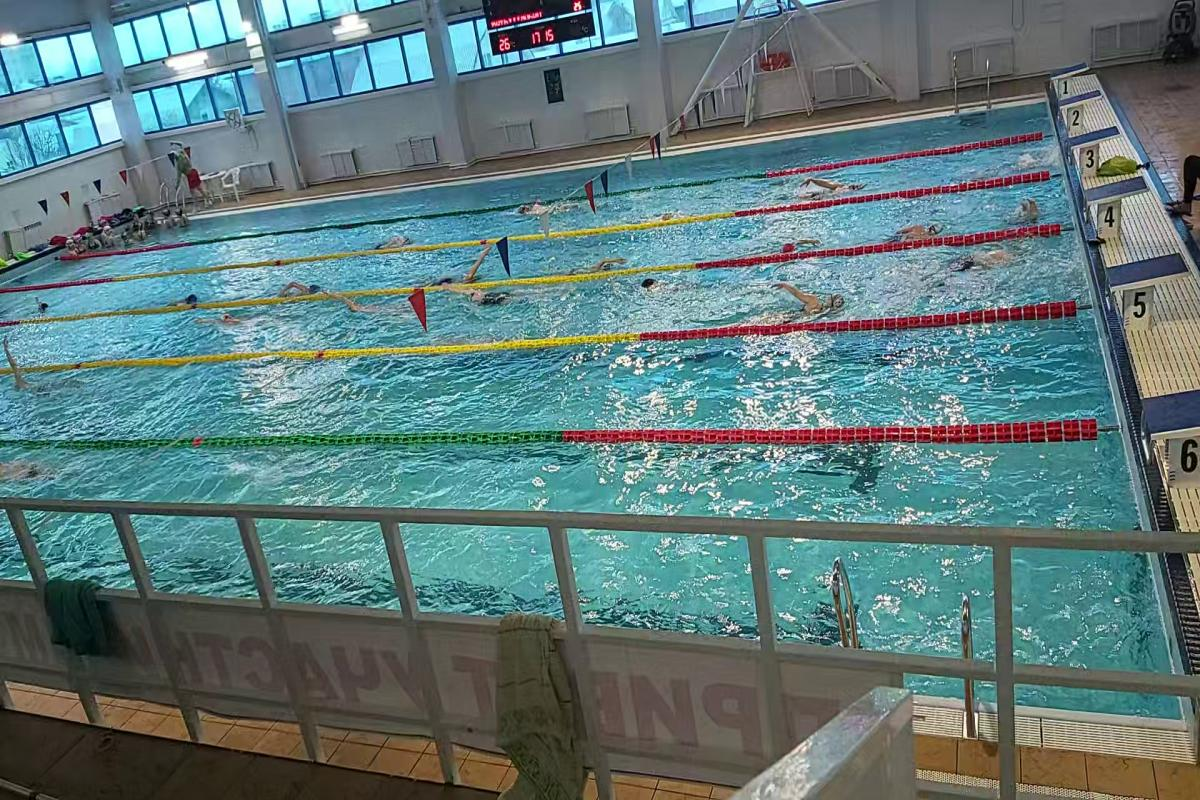swimmer: (760, 276, 850, 320), (942, 241, 1032, 272), (794, 172, 874, 204), (634, 270, 714, 297), (887, 214, 948, 239), (5, 452, 55, 482), (771, 230, 828, 254), (336, 292, 402, 312), (279, 272, 324, 296), (207, 306, 264, 324), (572, 252, 628, 270), (379, 234, 414, 247)
